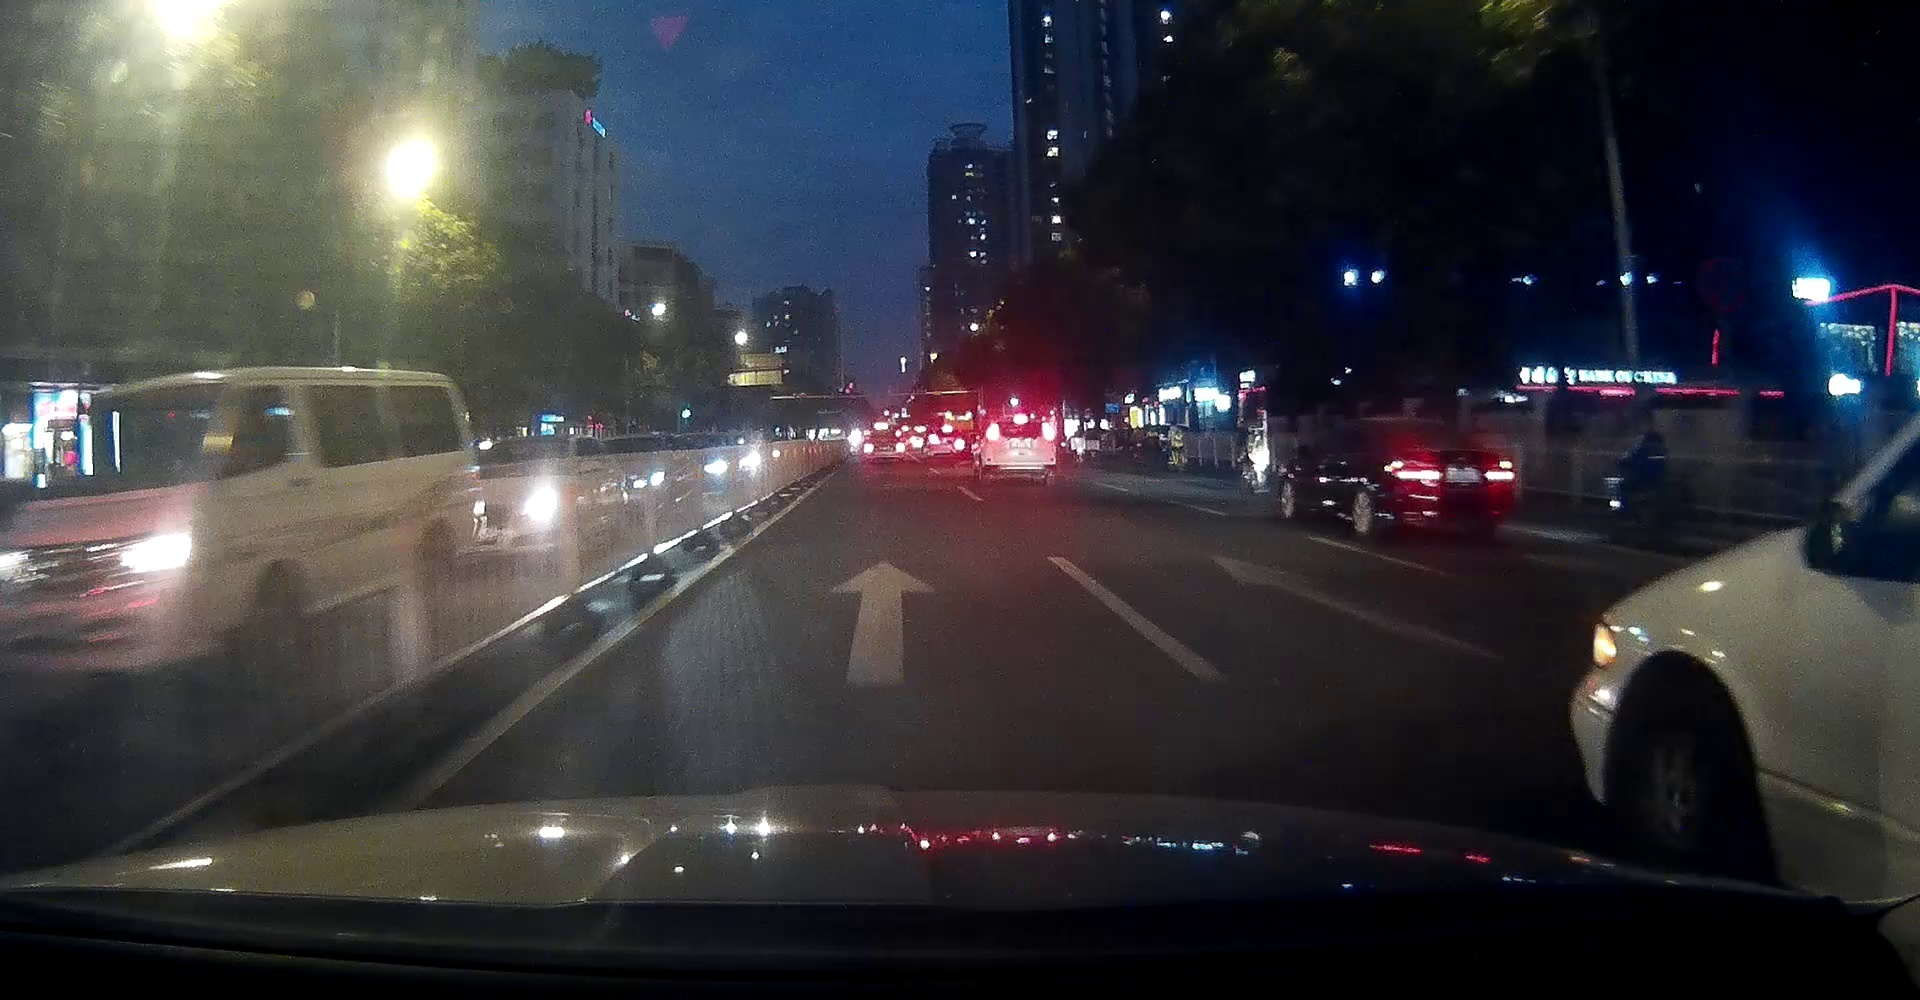L_light: (1394, 467, 1443, 484), (984, 431, 998, 439)
R_light: (1483, 468, 1515, 482), (1040, 431, 1054, 442)
T_light: (1013, 412, 1029, 424), (1437, 418, 1457, 425)
night-no: (1377, 416, 1516, 541), (984, 412, 1057, 485)
